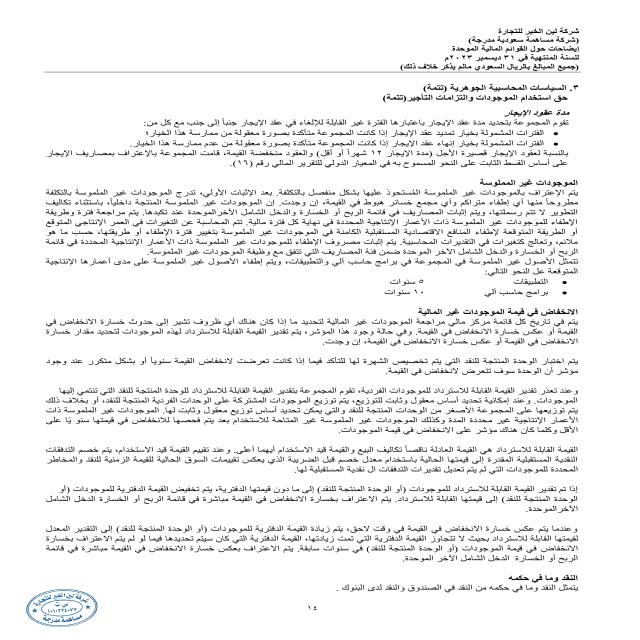notes: (436, 44, 584, 54)
text: (31, 79, 584, 607)
